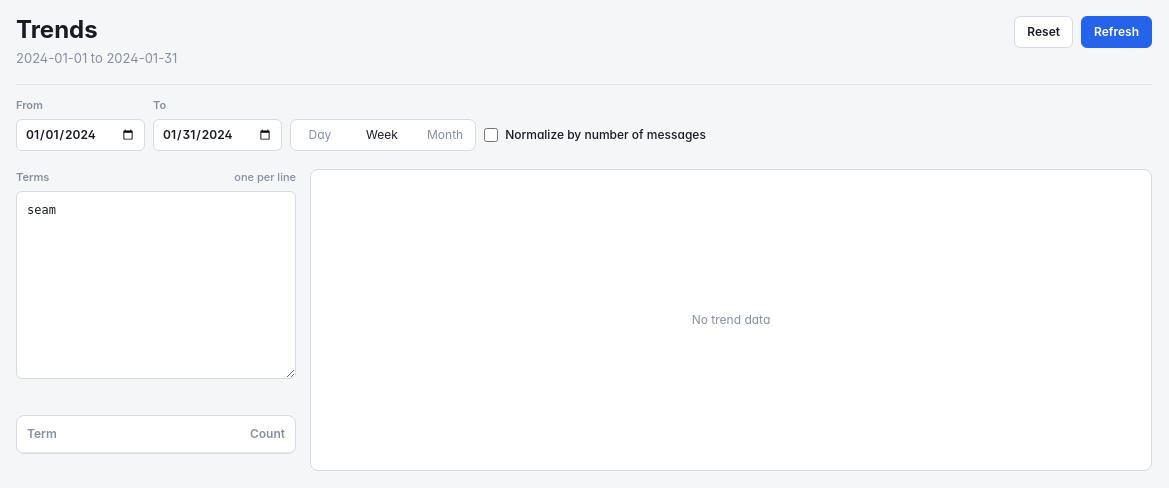
Test: TrendsPage › surfaces explicit refresh errors after initial data loads
Step 1. Clear the text box with id "trend-terms" → (156, 285), box [16,191,296,379]
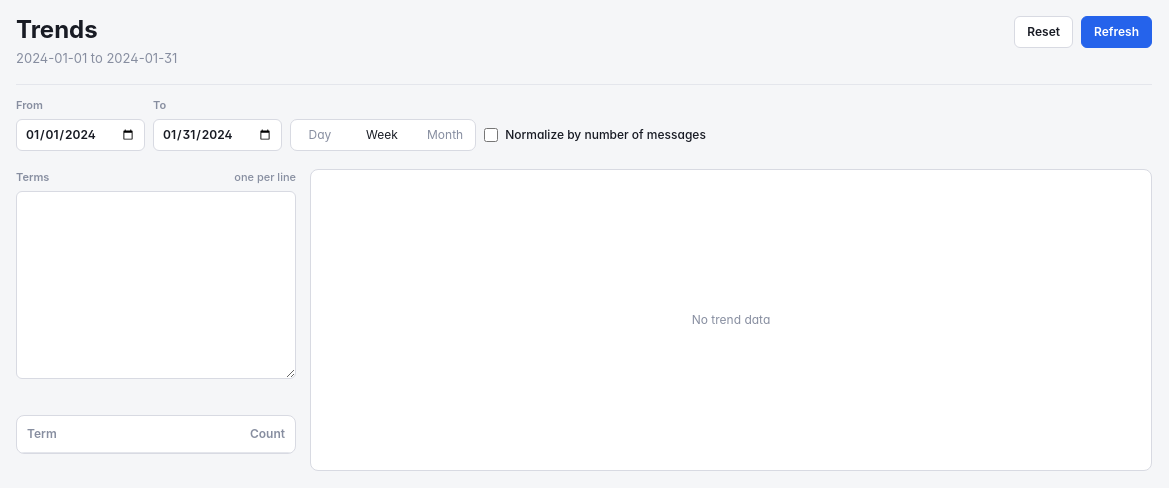
Step 2. Click the button "Refresh" → (1116, 32), box [1081,16,1152,48]
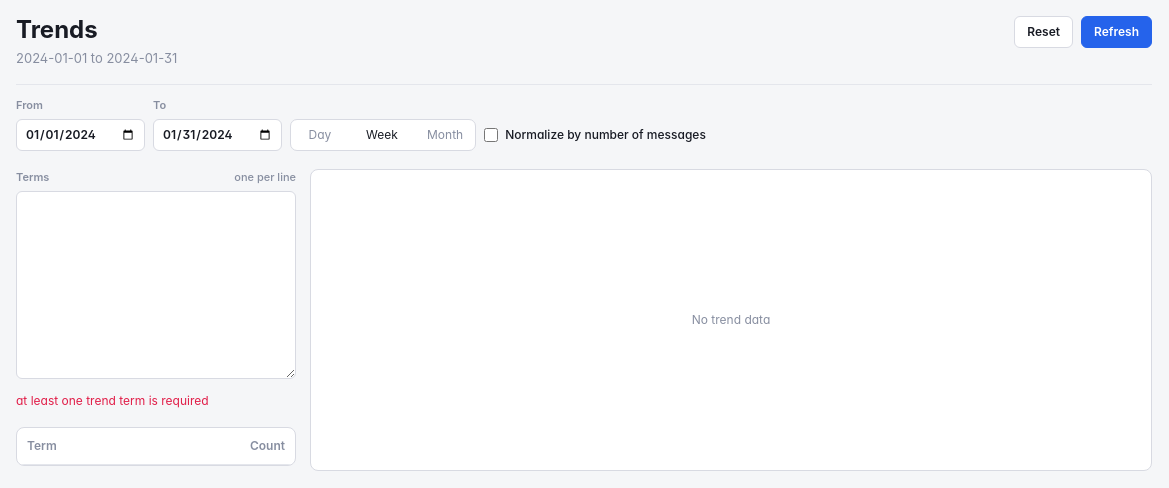
Result: the text "at least one trend term is required" is shown at [16,393,209,408]
